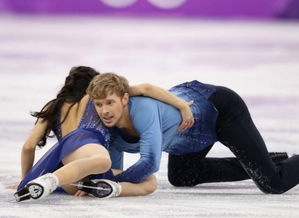falling: (4, 57, 166, 206)
